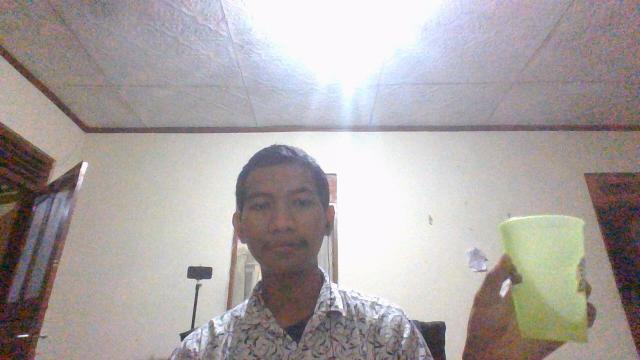botol-hijau: (498, 205, 598, 353)
